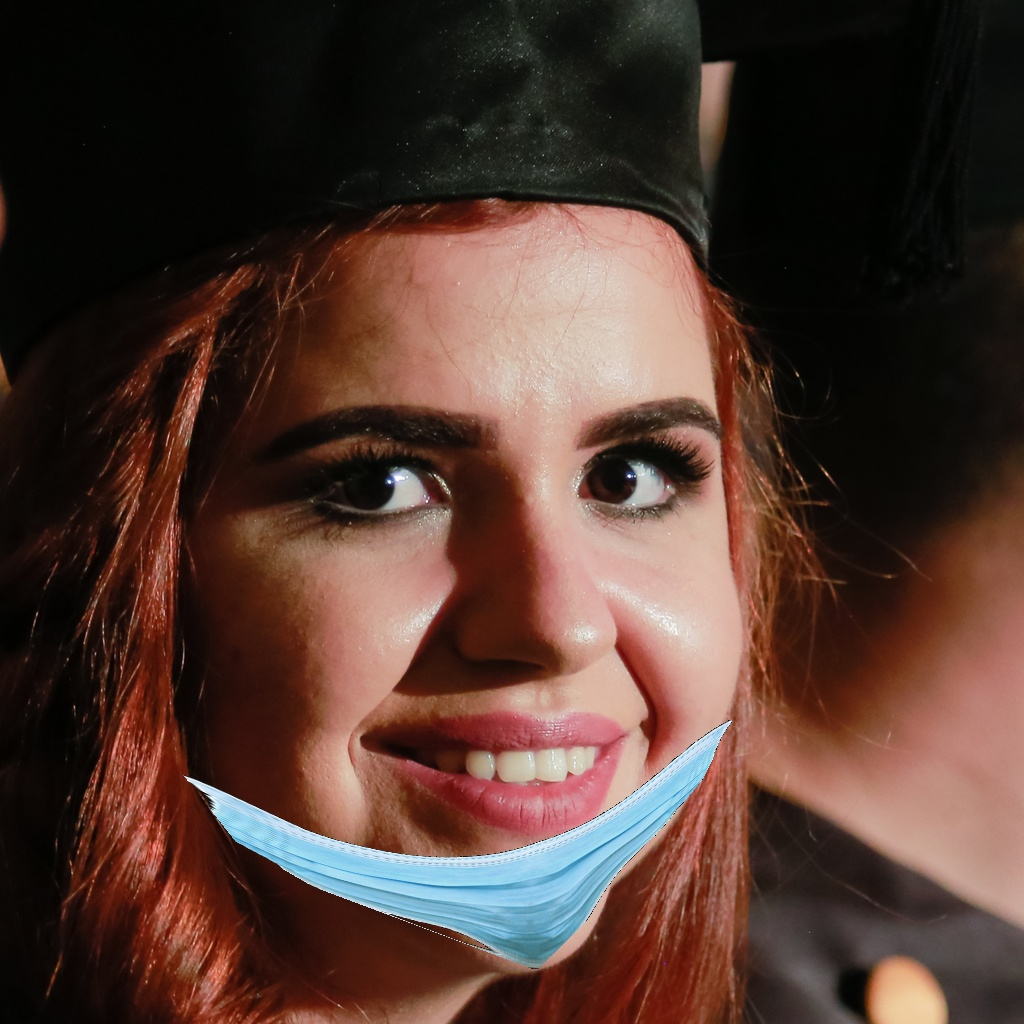mask_weared_incorrect: (134, 391, 777, 978)
